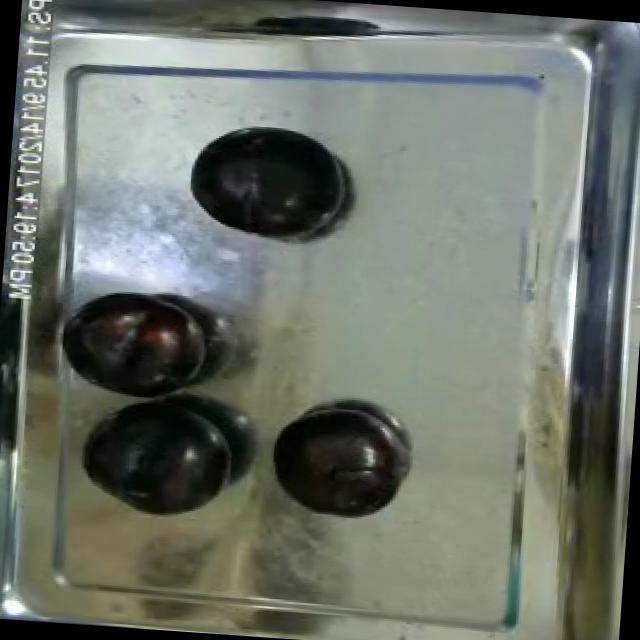Fruit: (177, 114, 356, 252), (74, 386, 242, 522), (58, 283, 218, 407), (262, 399, 406, 526)
